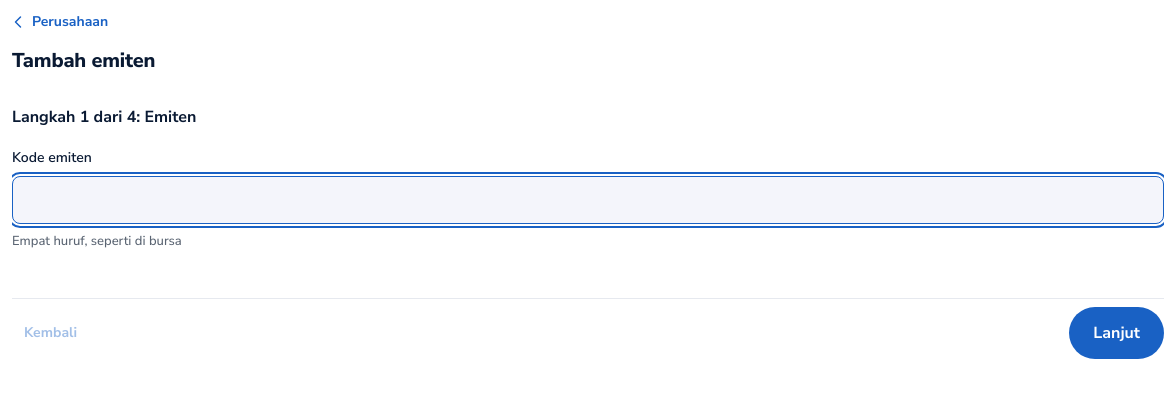
Scenario: Tambah emiten: wizard langkah (design.md §3.4, A6.2), kasus langkah dari AddScreen.test.tsx › step 1: ticker › asks for a code when Lanjut is pressed empty, and stays on step 1
Click the button "Lanjut" at (1117, 333), box [1069, 307, 1164, 359]
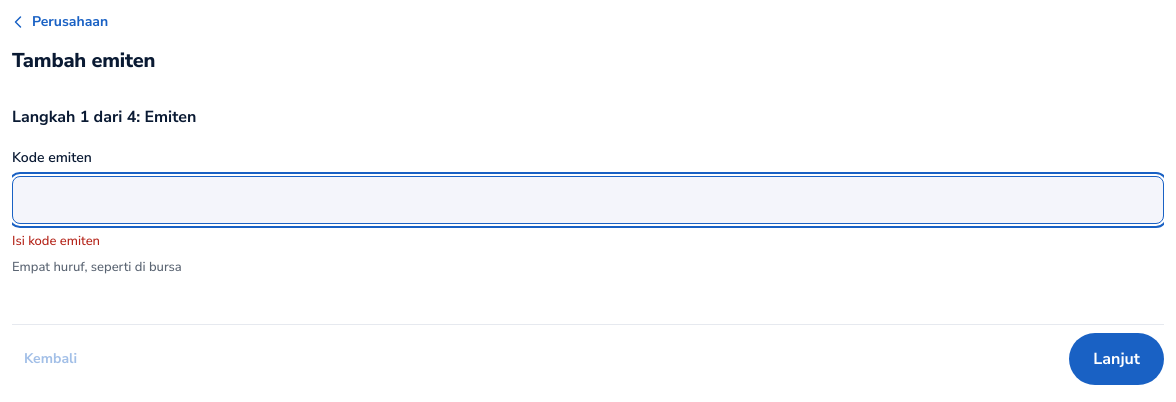
expect the text "Isi kode emiten" is shown: met, box [12, 232, 100, 250]
